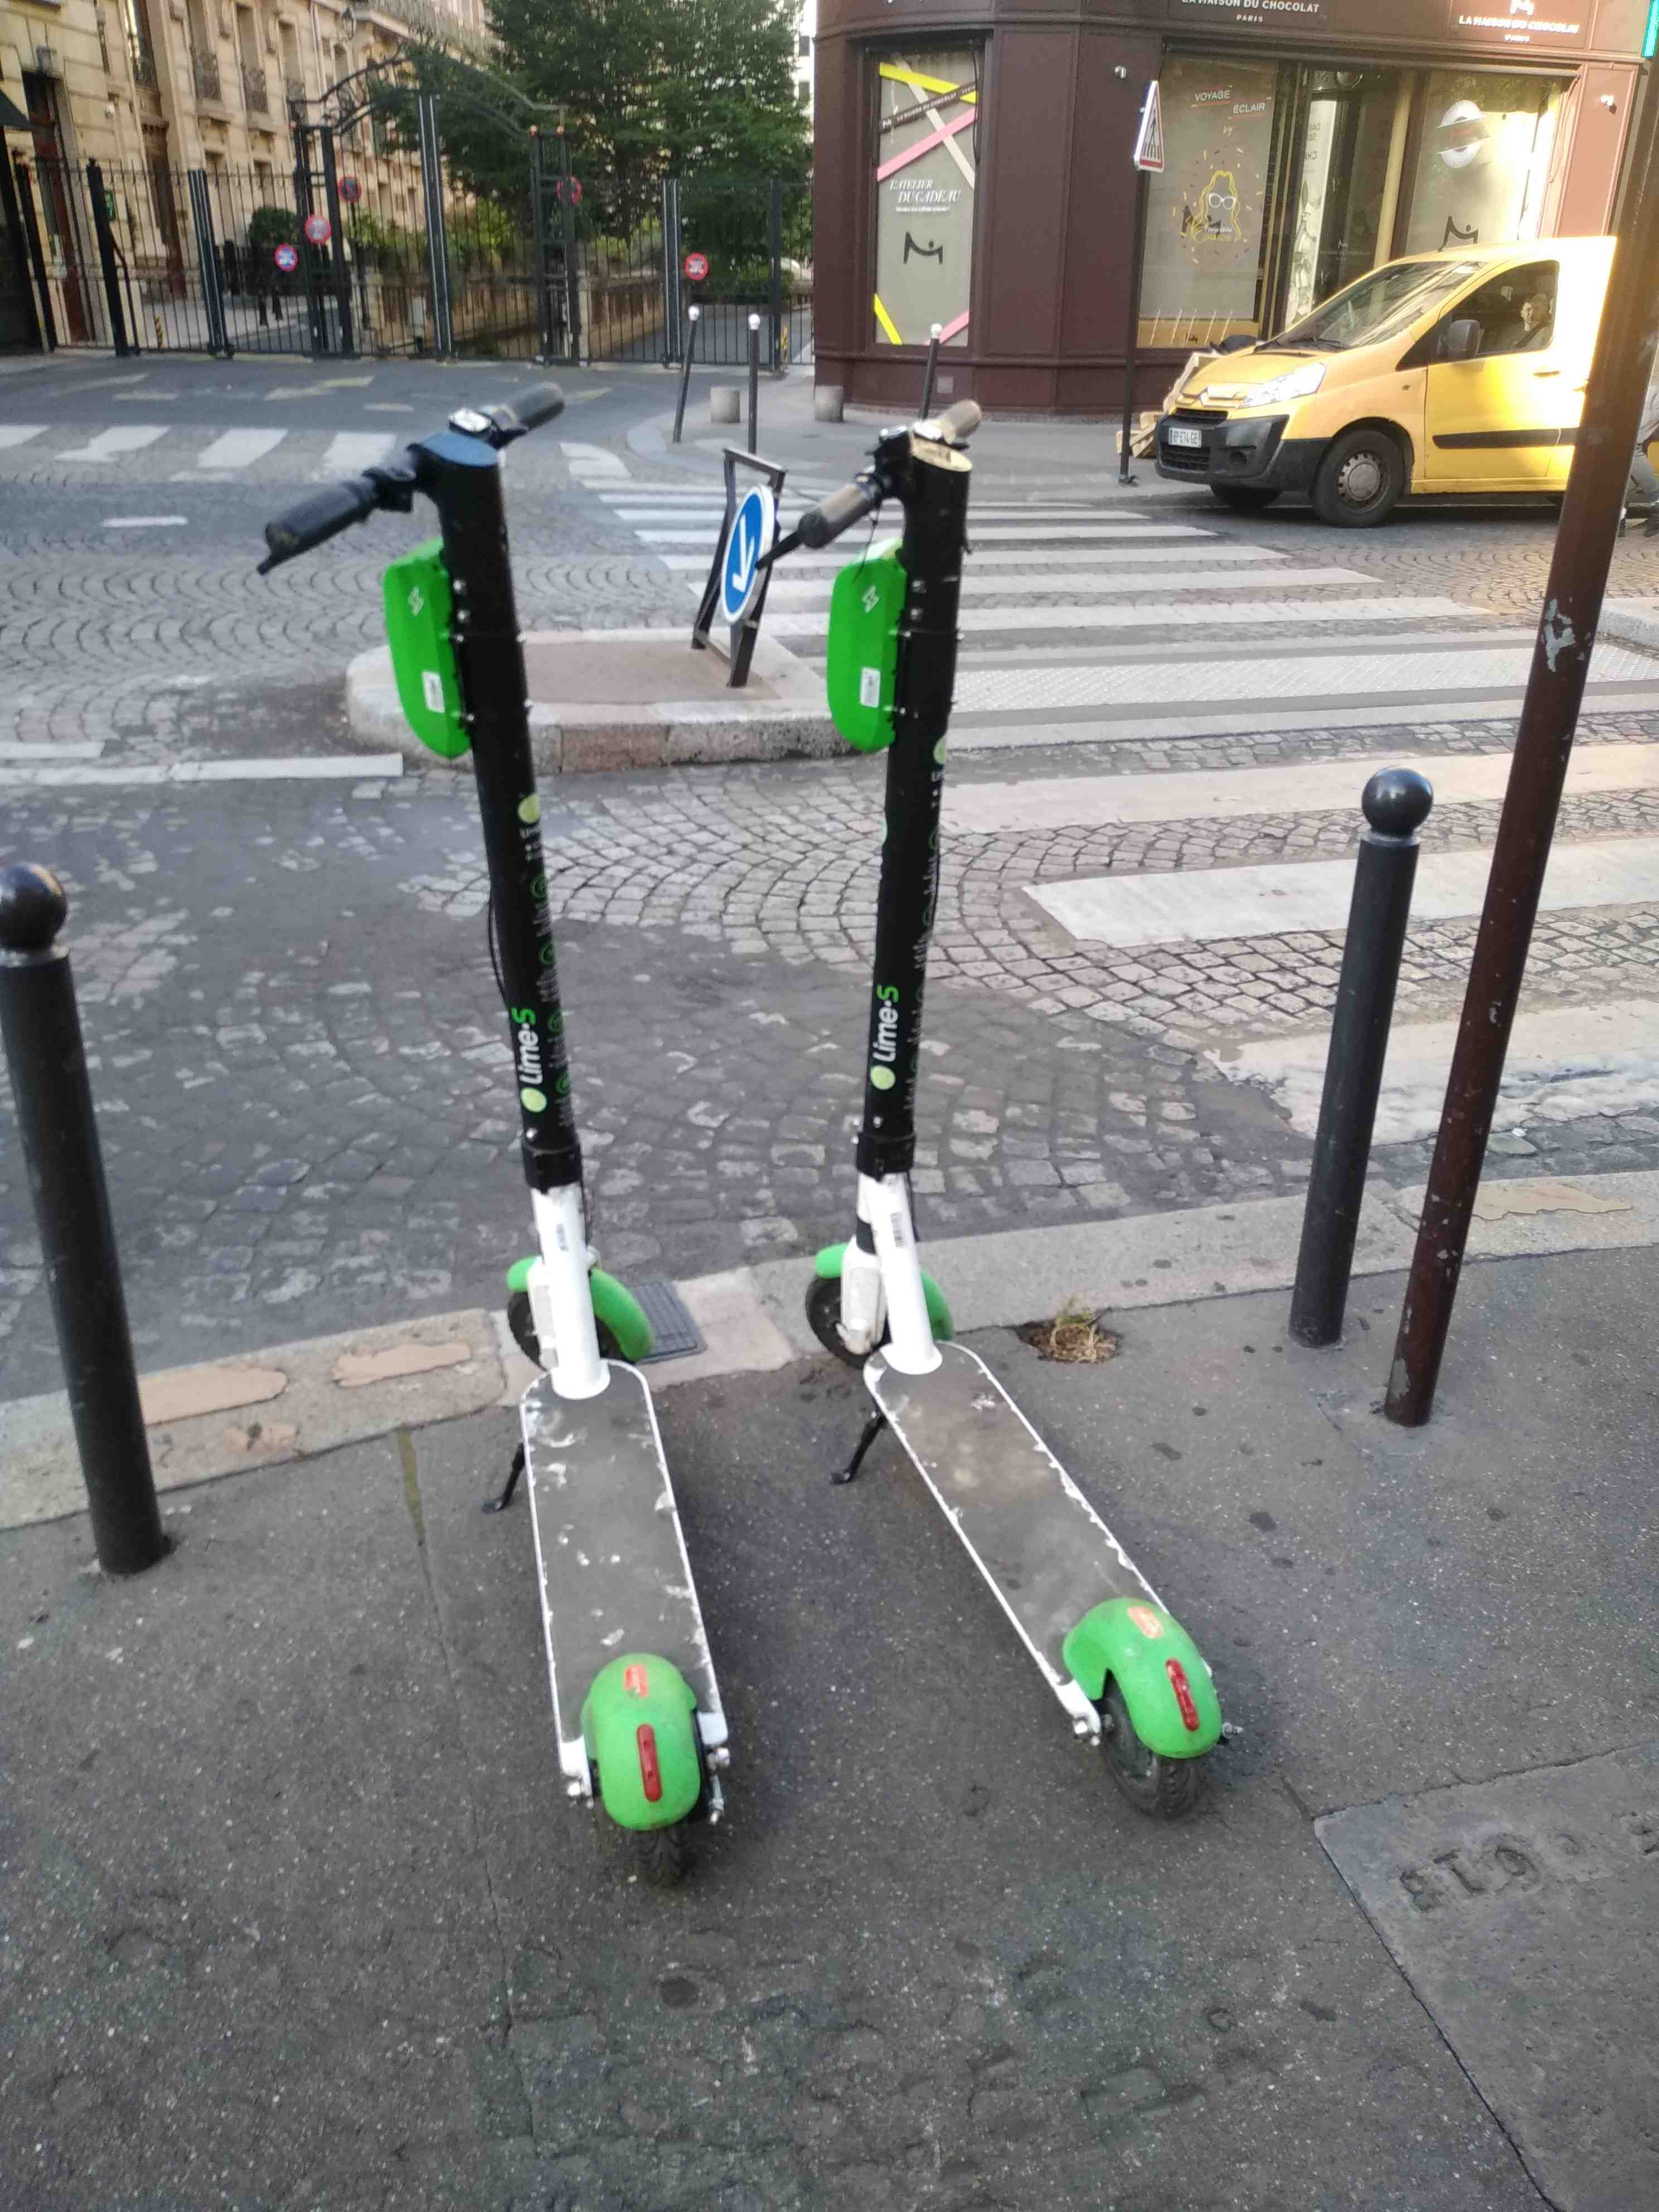too close: (434, 1200, 709, 1442), (748, 1195, 1012, 1442)
